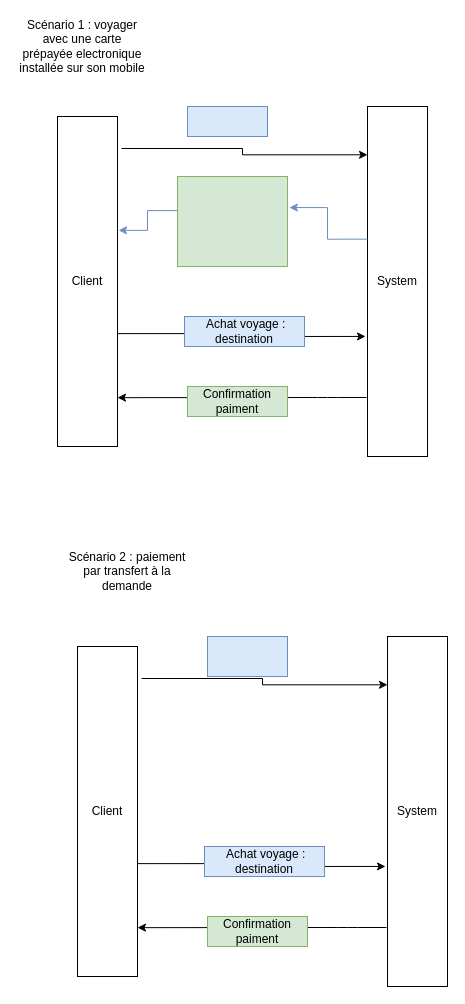
Some shapes in this 465 by 1004 pixel diagram are drawn without their labels. The shapes that lost their labels are listed below. From the top down, each one's box as (x1, y1, x2, y2) in pixels, then its label:
(186, 106, 268, 136): Demande d'abonnement
(176, 176, 288, 266): Support electronique pour mobile :QRCODE, Cash Wallet prépayé
(206, 636, 288, 676): Demande d'achat de voyage
